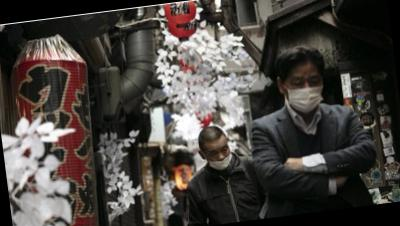mask_weared_incorrect: (206, 141, 235, 173)
with_mask: (285, 70, 328, 116)
